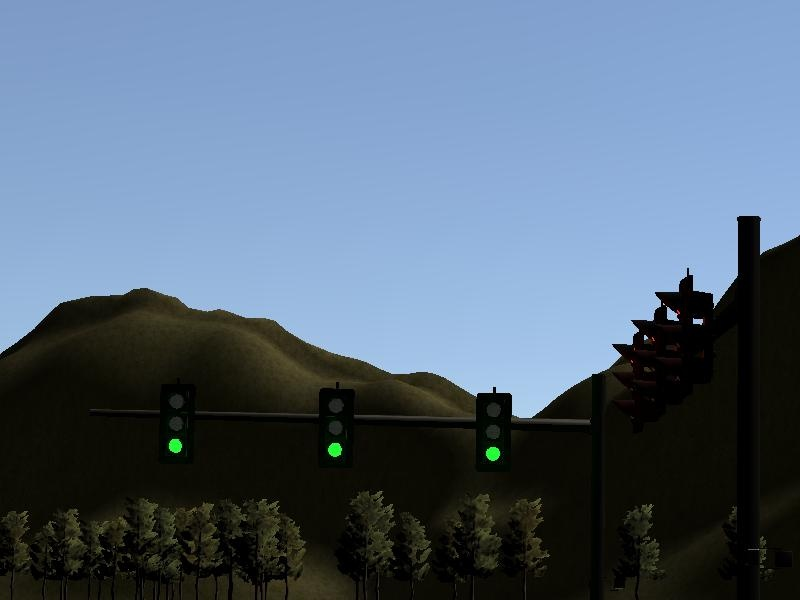GREEN: (472, 389, 517, 481), (312, 384, 358, 473), (162, 387, 192, 463)
